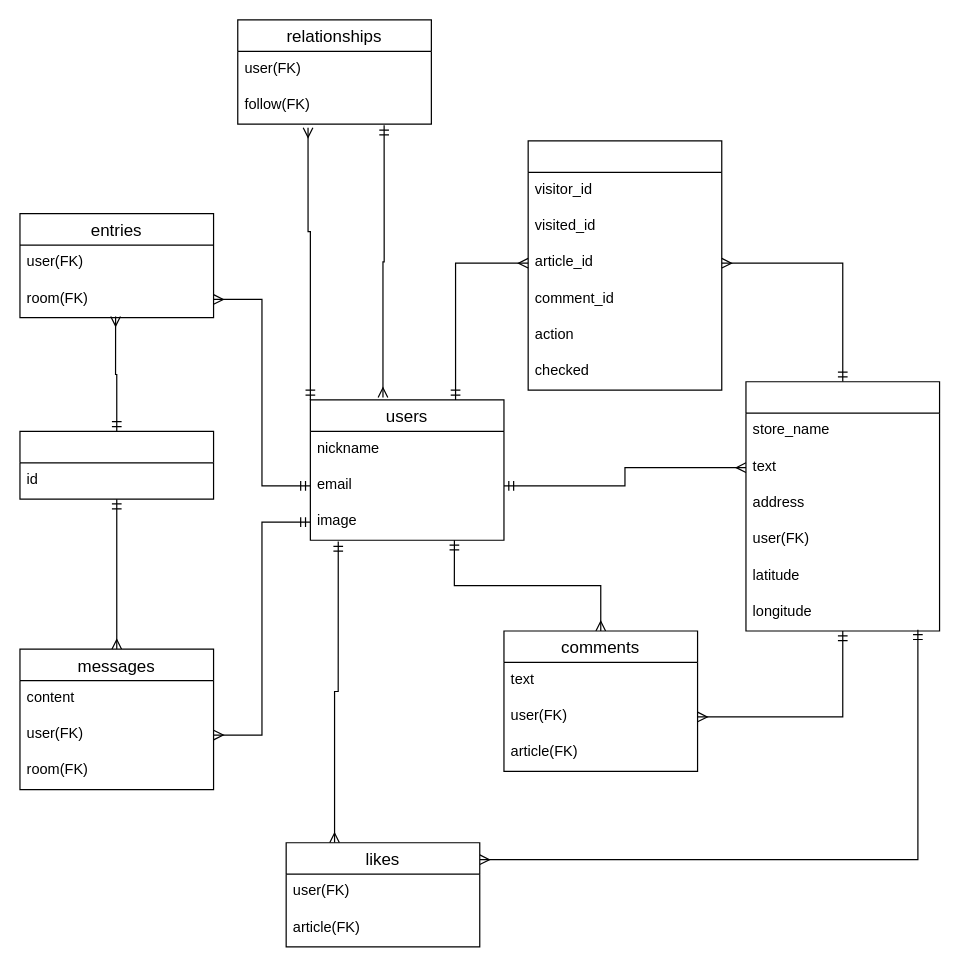
Some shapes in this 960 by 967 pixel diagram are drawn without their labels. The box of each missing label's shape, as (x1, y1, x2, y2) in pixels:
articles: (745, 381, 940, 631)
notifications: (527, 140, 722, 390)
rooms: (19, 430, 214, 499)
